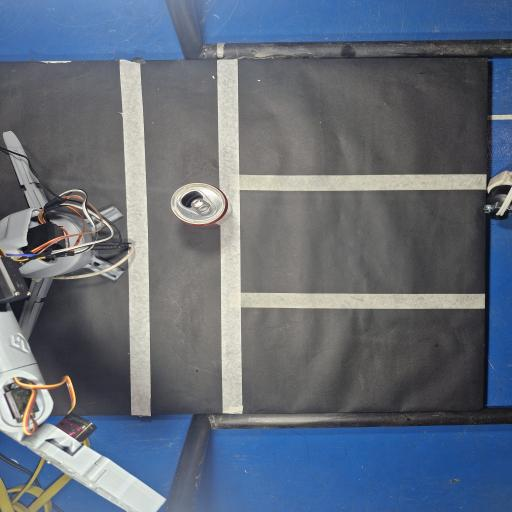lata: (171, 183, 231, 226)
